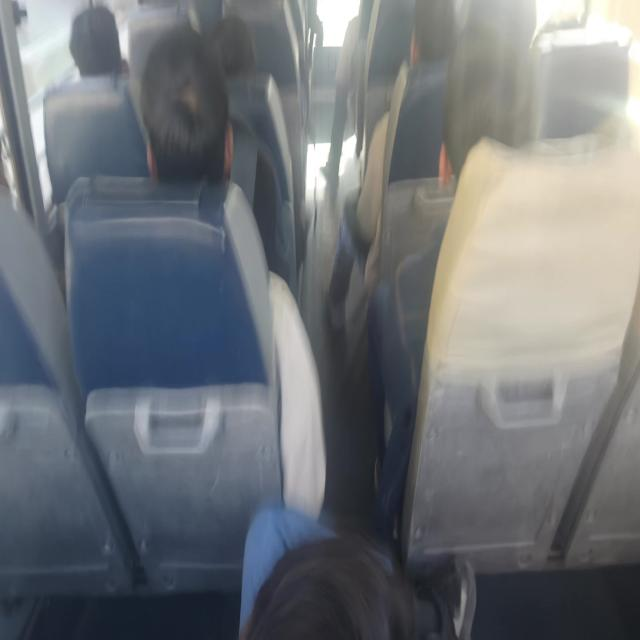person: (236, 528, 449, 640), (440, 30, 533, 174), (136, 60, 238, 190), (64, 0, 122, 68), (404, 0, 456, 74), (193, 25, 265, 78), (529, 12, 608, 47), (0, 110, 24, 220)
